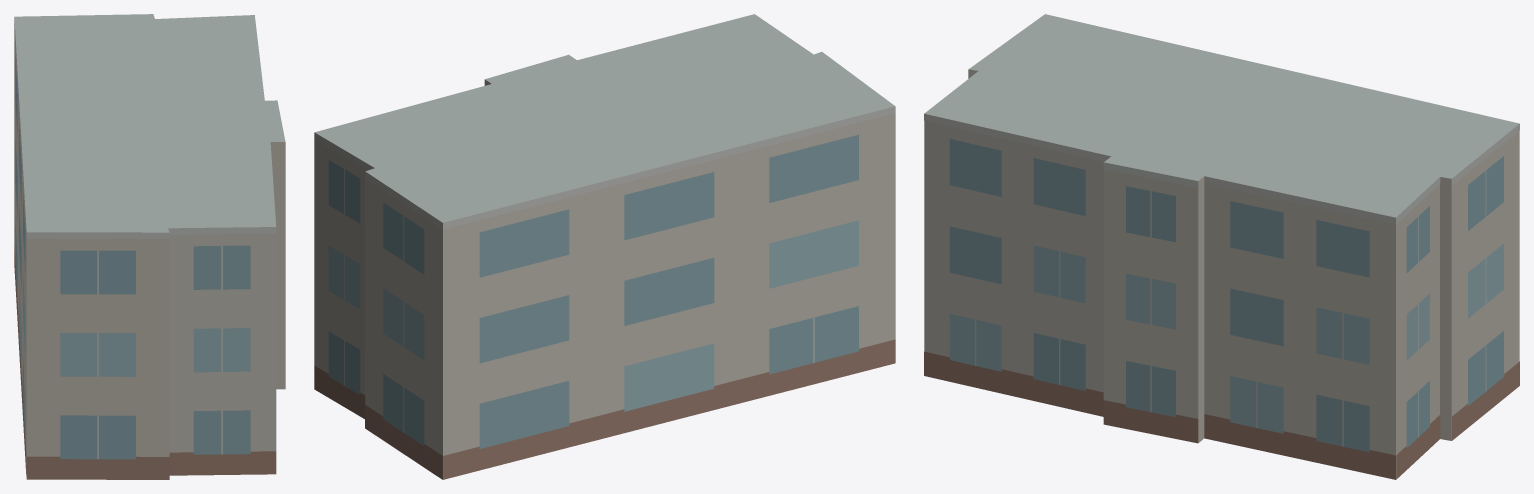
File: survey-upis-32670737.glb
3 views of the same model, side by side, from view 1: azimuth 30°, elevation 25°; view 2: azimuth 150°, elevation 25°; view 3: azimuth 270°, elevation 25° (orthographic). The views are drawn at different scales.
Parts seen in each view (by area): view 1: survey-upis-32670737.tmp; view 2: survey-upis-32670737.tmp; view 3: survey-upis-32670737.tmp.
Part boxes in pixels (x1,y1,x2,y2): survey-upis-32670737.tmp: [14, 14, 285, 479]; survey-upis-32670737.tmp: [314, 14, 895, 479]; survey-upis-32670737.tmp: [924, 14, 1519, 479].
Size of the model in its own units: 15.25 by 9.15 by 18.85.
